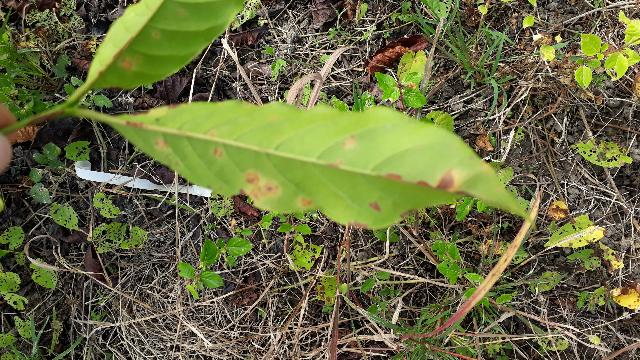rust_level_2: (110, 97, 542, 233)
